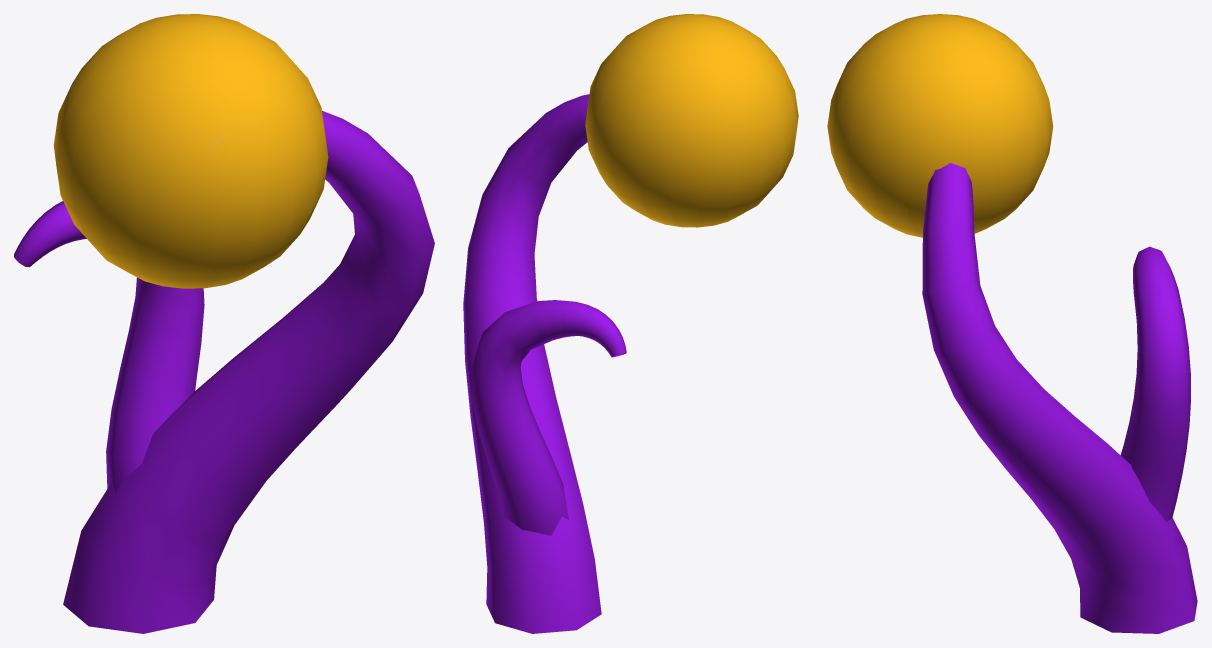
Rendered from Tree_Light_2.fbx.
3 views of the same model, side by side, from view 1: azimuth 30°, elevation 25°; view 2: azimuth 150°, elevation 25°; view 3: azimuth 270°, elevation 25° (orthographic). The views are drawn at different scales.
Visible parts, largest first — view 1: Tree_Light_2; view 2: Tree_Light_2; view 3: Tree_Light_2.
Part boxes in pixels (box(x1,y1,x2,y2)): Tree_Light_2: box(14, 14, 434, 633); Tree_Light_2: box(463, 14, 798, 633); Tree_Light_2: box(827, 14, 1197, 633).
Bounding box in the file's own units: 145 × 251 × 151.
Materials: 1 (1 with a texture image).
